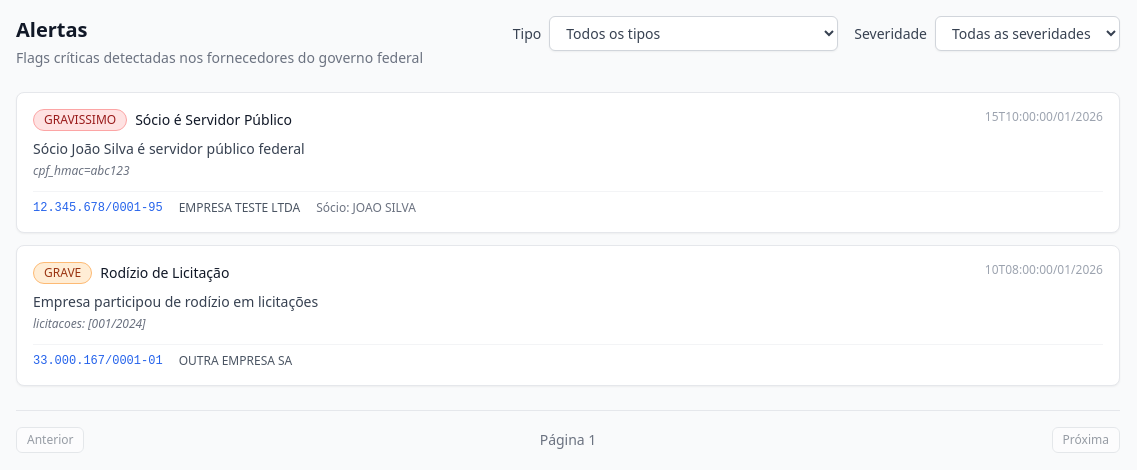
Alertas › filters by severidade client-side
Check: the text "Sócio João Silva é servidor público federal" is shown, box x1=33 y1=139 x2=305 y2=158
Check: the text "Empresa participou de rodízio em licitações" is shown, box x1=33 y1=292 x2=318 y2=311
Select "Gravíssimo" in the dropdown labelled "Severidade". click: (1028, 34)
box: x1=935 y1=16 x2=1120 y2=51
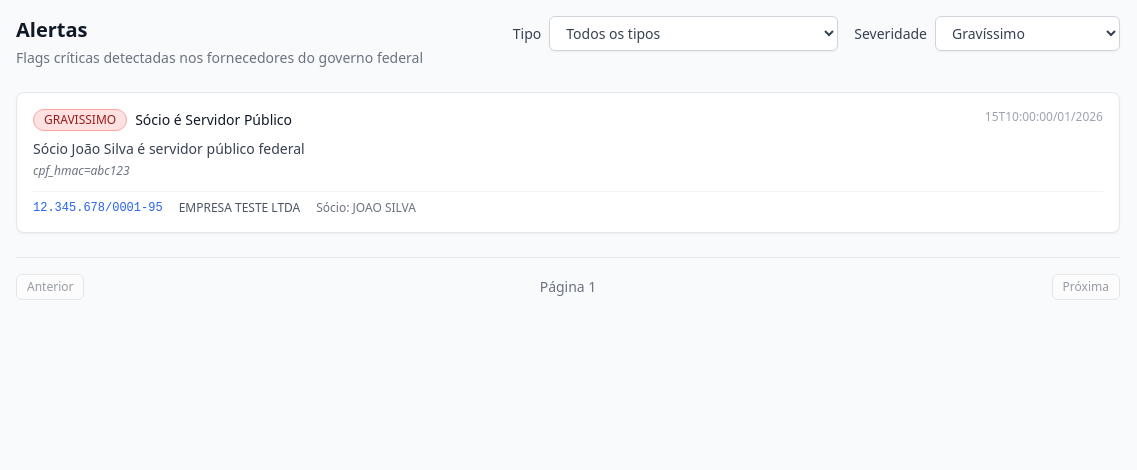
Check: the text "Sócio João Silva é servidor público federal" is shown, box x1=33 y1=139 x2=305 y2=158
Check: the text "Empresa participou de rodízio em licitações" is gone
